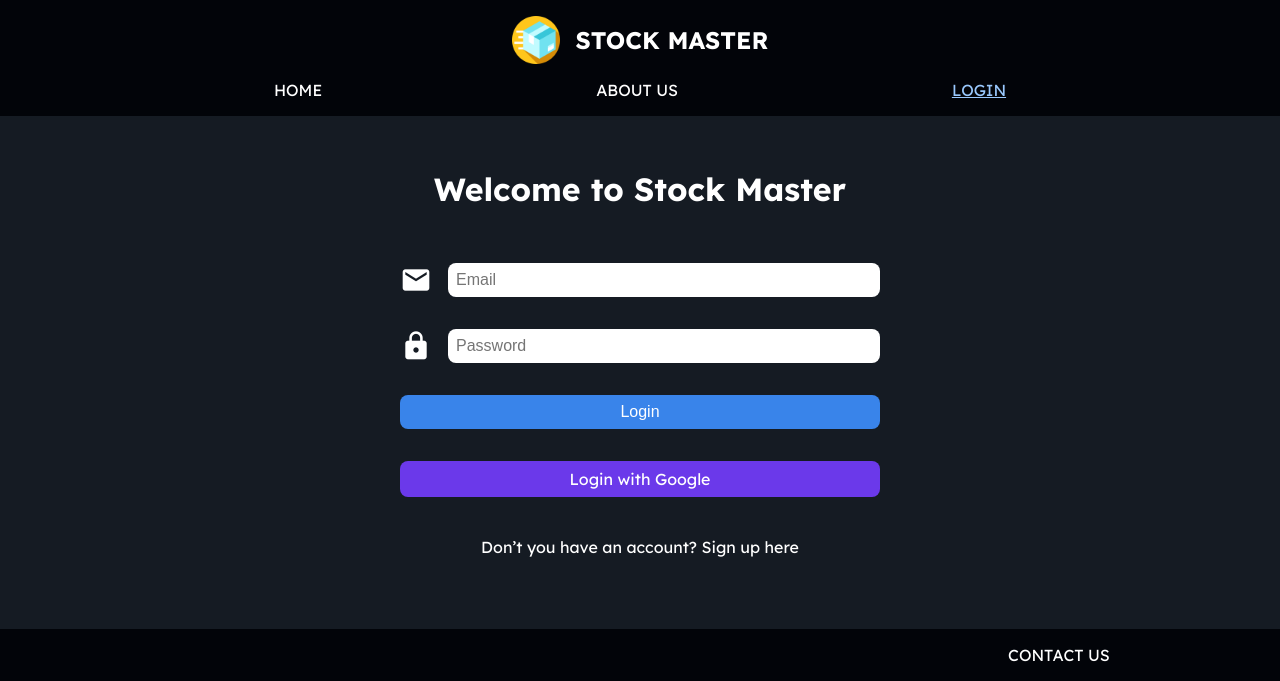
Scenario: Login Component › should show error on invalid login
This screenshot has width=1280, height=681.
Step 1. Type "wronguser@example.com" into the field named "email" → (664, 280), box [448,263,880,297]
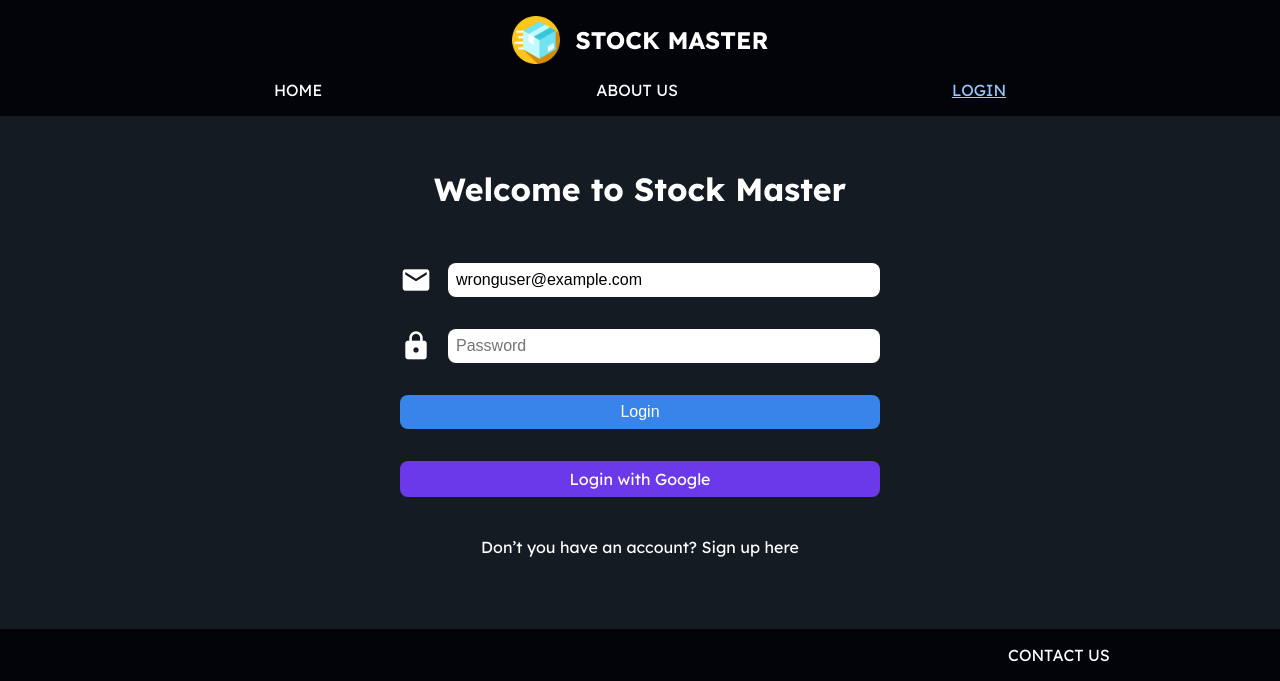
Step 2. Type "wrongpassword" into the password field named "password" → (664, 346), box [448,329,880,363]
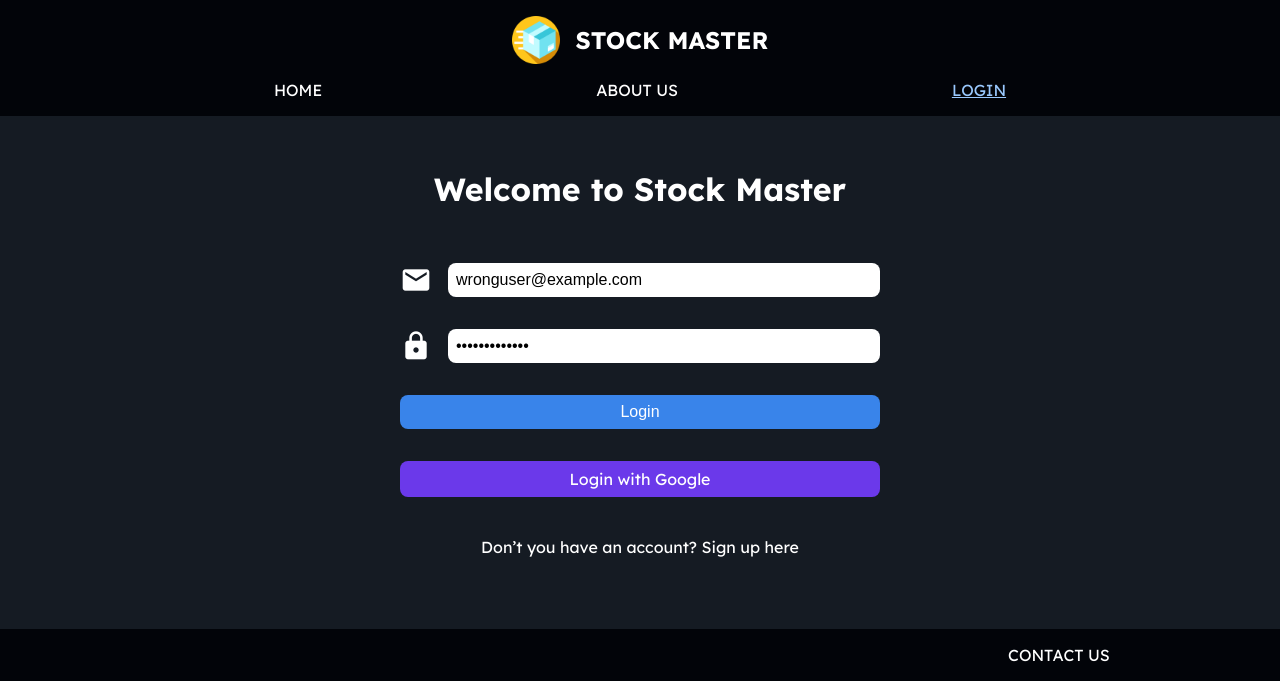
Step 3. Submit the form, box [400,148,880,565]
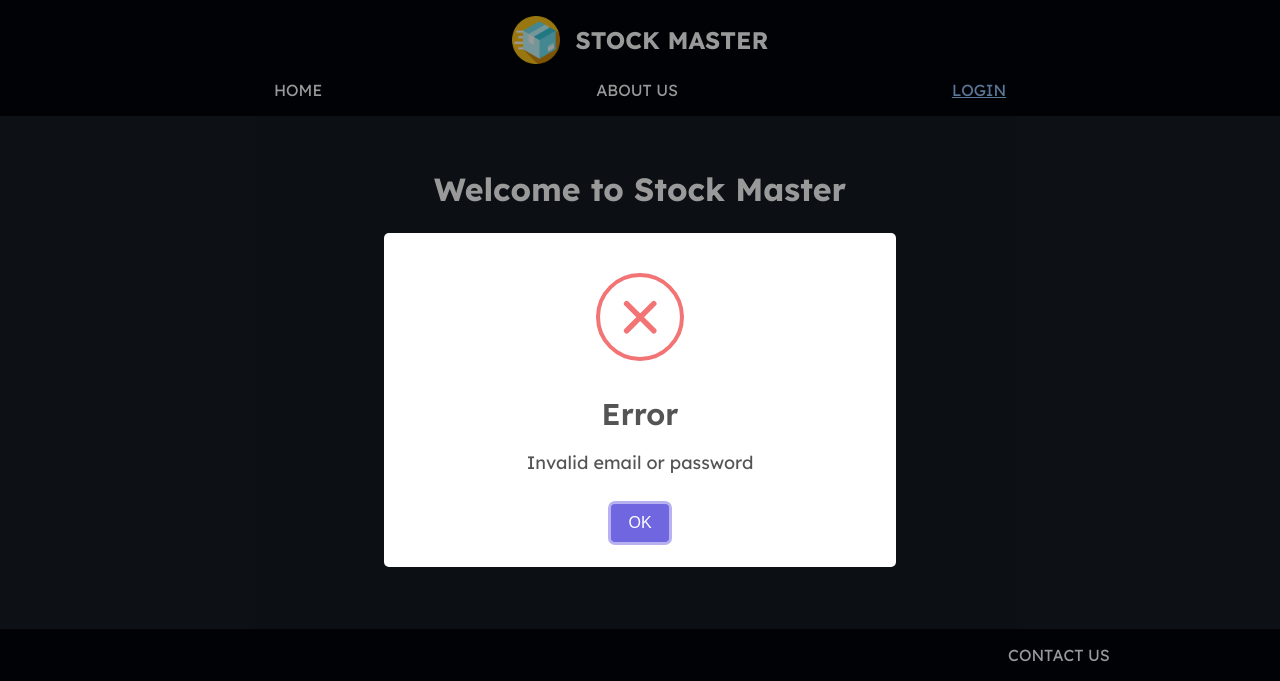
expect the text "Invalid email or password" is shown: met, box [527,451,753,474]
